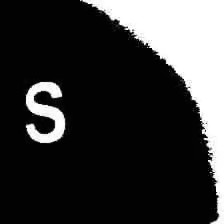LTR_S: (16, 75, 72, 146)
